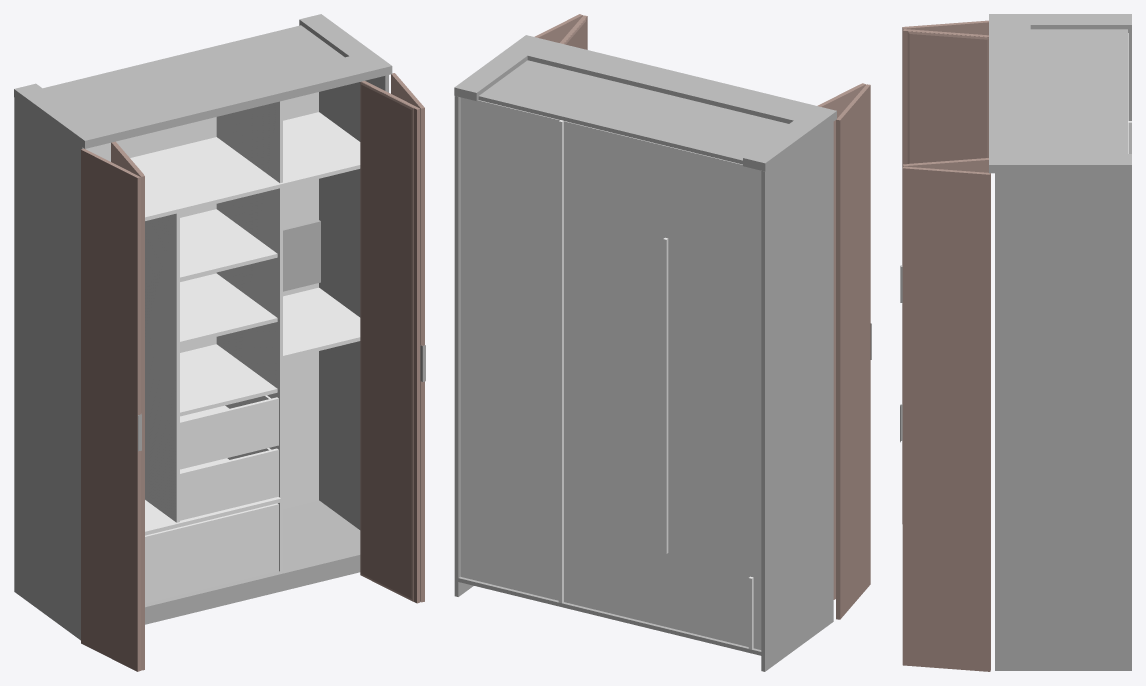
File: Cupboard_Wing_line_SH150.fbx
3 renders of one model, left to right at view 1: azimuth 30°, elevation 25°; view 2: azimuth 150°, elevation 25°; view 3: azimuth 270°, elevation 25°, orthographic.
Parts seen in each view (by area): view 1: Karkas, Korpus, Stvorka_R, Stvorka_L; view 2: Karkas, Korpus, Stvorka_L, Stvorka_R; view 3: Korpus, Stvorka_R, Stvorka_L.
Part boxes in pixels (bbox=[...]): Karkas: bbox=[86, 92, 360, 603]; Korpus: bbox=[14, 14, 392, 640]; Stvorka_R: bbox=[360, 73, 424, 603]; Stvorka_L: bbox=[81, 141, 144, 671]; Karkas: bbox=[460, 97, 761, 649]; Korpus: bbox=[454, 35, 836, 671]; Stvorka_L: bbox=[817, 83, 870, 619]; Stvorka_R: bbox=[534, 14, 587, 49]; Korpus: bbox=[989, 14, 1131, 670]; Stvorka_R: bbox=[902, 158, 990, 671]; Stvorka_L: bbox=[902, 20, 988, 523].
Size of the model in its own units: 1534 by 2346 by 974.
